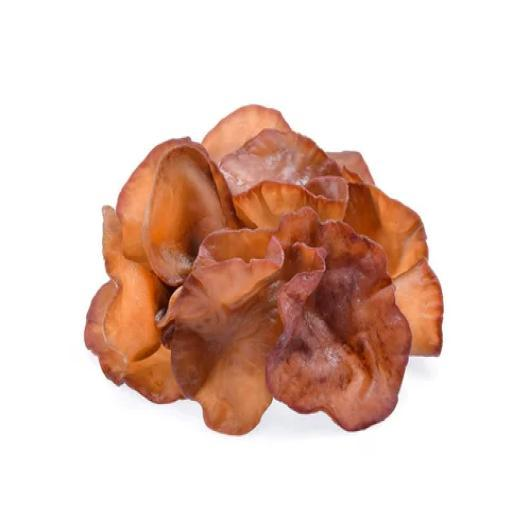mushroom: (78, 107, 448, 434)
